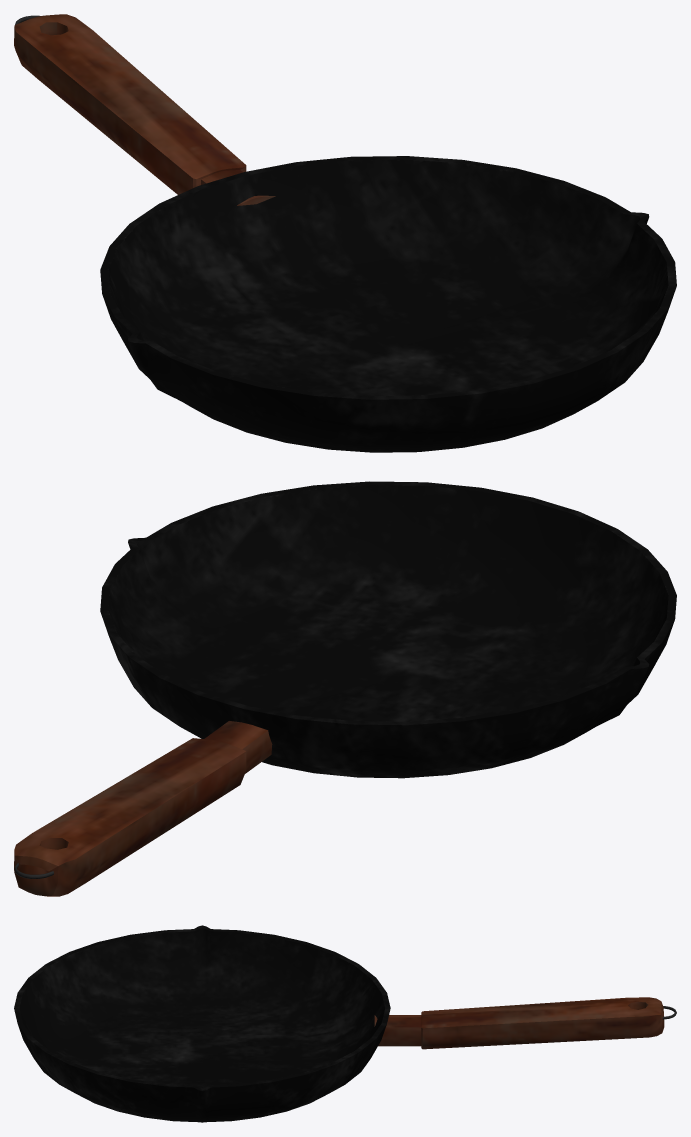
File: Prop_Kitchen_Pan_x7.fbx
3 views of the same model, one above another, from view 1: azimuth 30°, elevation 25°; view 2: azimuth 150°, elevation 25°; view 3: azimuth 270°, elevation 25° (orthographic). The views are drawn at different scales.
Parts seen in each view (by area): view 1: Prop_Kitchen_Pan_x7; view 2: Prop_Kitchen_Pan_x7; view 3: Prop_Kitchen_Pan_x7.
Boxes of the visible parts, x1=… form: Prop_Kitchen_Pan_x7: x1=14, y1=14, x2=676, y2=452; Prop_Kitchen_Pan_x7: x1=14, y1=481, x2=676, y2=896; Prop_Kitchen_Pan_x7: x1=14, y1=925, x2=676, y2=1122.
Size of the model in its own units: 16.09 by 2.68 by 27.24.
